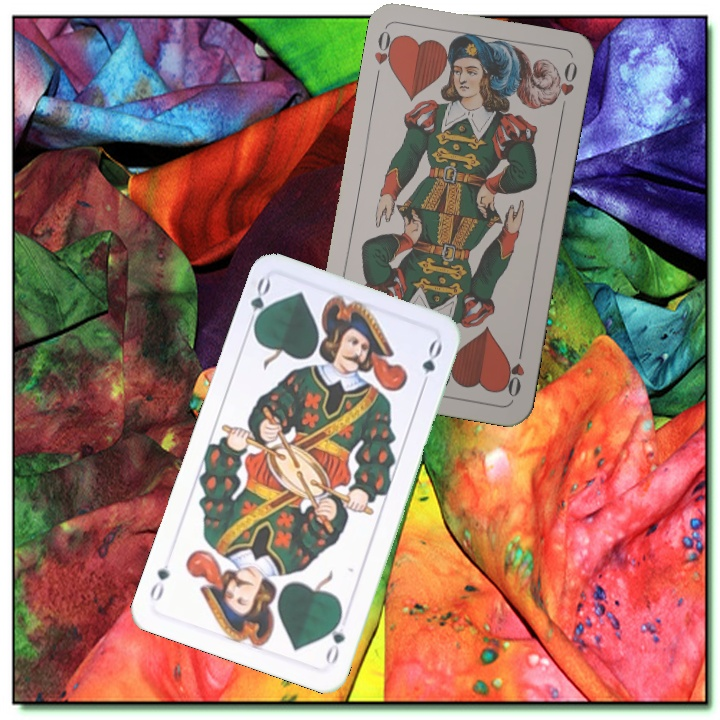GO: (243, 274, 274, 334), (321, 610, 348, 667)
HO: (370, 26, 400, 83), (500, 342, 527, 400)
